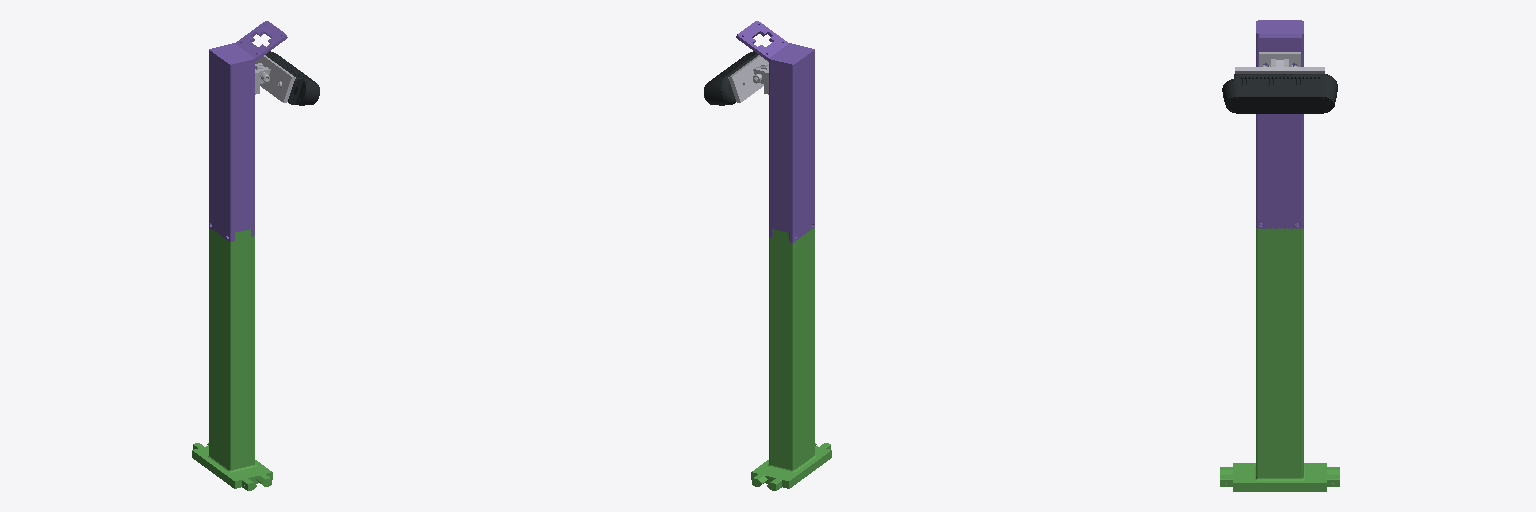
URDF robot description (so101_uvc_d435i_mount):
<?xml version='1.0' encoding='utf-8'?>
<robot name="so101_uvc_d435i_mount">
  <material name="uvc_bottom">
    <color rgba="0.40 0.68 0.36 1" />
  </material>
  <material name="uvc_top">
    <color rgba="0.52 0.43 0.72 1" />
  </material>
  <material name="mount">
    <color rgba="0.72 0.72 0.76 1" />
  </material>
  <material name="camera">
    <color rgba="0.20 0.22 0.23 1" />
  </material>
  <material name="hardware">
    <color rgba="0.72 0.73 0.75 1" />
  </material>
  <link name="uvc_mount_base_link">
    <visual name="uvc_mount_bottom">
      <origin xyz="0 0 0" rpy="1.57079632679 -0 0" />
      <geometry>
        <mesh filename="meshes/uvc_mount_bottom.stl" />
      </geometry>
      <material name="uvc_bottom" />
    </visual>
    <collision name="uvc_mount_bottom">
      <origin xyz="0 0 0" rpy="1.57079632679 -0 0" />
      <geometry>
        <mesh filename="meshes/uvc_mount_bottom.stl" />
      </geometry>
    </collision>
    <visual name="uvc_mount_top">
      <origin xyz="0.0187 -0.0365 0.0322" rpy="1.57079632679 -0 0" />
      <geometry>
        <mesh filename="meshes/uvc_mount_top.stl" />
      </geometry>
      <material name="uvc_top" />
    </visual>
    <collision name="uvc_mount_top">
      <origin xyz="0.0187 -0.0365 0.0322" rpy="1.57079632679 -0 0" />
      <geometry>
        <mesh filename="meshes/uvc_mount_top.stl" />
      </geometry>
    </collision>
    <visual name="d435i_mount_fork">
      <origin xyz="0.0574 -0.0365 0.365" rpy="-1.57079632679 -0 1.57079632679" />
      <geometry>
        <mesh filename="meshes/d435i_mount_fork.stl" />
      </geometry>
      <material name="mount" />
    </visual>
    <collision name="d435i_mount_fork">
      <origin xyz="0.0574 -0.0365 0.365" rpy="-1.57079632679 -0 1.57079632679" />
      <geometry>
        <mesh filename="meshes/d435i_mount_fork.stl" />
      </geometry>
    </collision>
    <visual name="m4_pivot_bolt">
      <origin xyz="0.0459 -0.0448 0.365" rpy="-1.57079632679 -0 1.57079632679" />
      <geometry>
        <mesh filename="meshes/m4_pivot_bolt.stl" />
      </geometry>
      <material name="hardware" />
    </visual>
    <visual name="m4_washer_head">
      <origin xyz="0.0459 -0.0448 0.365" rpy="-1.57079632679 -0 1.57079632679" />
      <geometry>
        <mesh filename="meshes/m4_washer_head.stl" />
      </geometry>
      <material name="hardware" />
    </visual>
    <visual name="m4_washer_nut">
      <origin xyz="0.0459 -0.029 0.365" rpy="-1.57079632679 -0 1.57079632679" />
      <geometry>
        <mesh filename="meshes/m4_washer_nut.stl" />
      </geometry>
      <material name="hardware" />
    </visual>
    <visual name="m4_locknut">
      <origin xyz="0.0459 -0.0261 0.365" rpy="-1.57079632679 -0 1.57079632679" />
      <geometry>
        <mesh filename="meshes/m4_locknut.stl" />
      </geometry>
      <material name="hardware" />
    </visual>
  </link>
  <link name="d435i_tilt_link">
    <visual name="d435i_tilt_plate">
      <origin xyz="0.0115 0 2.01227923213e-16" rpy="-1.57079632679 -0 1.57079632679" />
      <geometry>
        <mesh filename="meshes/d435i_tilt_plate.stl" />
      </geometry>
      <material name="mount" />
    </visual>
    <collision name="d435i_tilt_plate">
      <origin xyz="0.0115 0 2.01227923213e-16" rpy="-1.57079632679 -0 1.57079632679" />
      <geometry>
        <mesh filename="meshes/d435i_tilt_plate.stl" />
      </geometry>
    </collision>
    <visual name="m3_left">
      <origin xyz="0.0075 -0.0225 3.0184188482e-16" rpy="-1.57079632679 -0 0" />
      <geometry>
        <mesh filename="meshes/m3_left.stl" />
      </geometry>
      <material name="hardware" />
    </visual>
    <visual name="m3_right">
      <origin xyz="0.0075 0.0225 3.0184188482e-16" rpy="-1.57079632679 -0 0" />
      <geometry>
        <mesh filename="meshes/m3_right.stl" />
      </geometry>
      <material name="hardware" />
    </visual>
  </link>
  <link name="d435i_camera_link">
    <visual name="d435i_camera">
      <origin xyz="0 0 0" rpy="0 0 0" />
      <geometry>
        <mesh filename="meshes/d435i_camera.stl" />
      </geometry>
      <material name="camera" />
    </visual>
    <collision name="d435i_camera">
      <origin xyz="0 0 0" rpy="0 0 0" />
      <geometry>
        <mesh filename="meshes/d435i_camera.stl" />
      </geometry>
    </collision>
  </link>
  <joint name="d435i_tilt" type="continuous">
    <origin xyz="0.0459 -0.0365 0.365" rpy="0 0.378895682706 0" />
    <parent link="uvc_mount_base_link" />
    <child link="d435i_tilt_link" />
    <axis xyz="0 1 0" />
  </joint>
  <joint name="d435i_camera_mount" type="fixed">
    <origin xyz="0.03655 0 3.67761376907e-16" rpy="1.57079632679 -0 1.57079632679" />
    <parent link="d435i_tilt_link" />
    <child link="d435i_camera_link" />
  </joint>
</robot>

--- Render facts (derived) ---
3 views of the same robot in one strip: view 1: azimuth 30°, elevation 25°; view 2: azimuth 150°, elevation 25°; view 3: azimuth 270°, elevation 25° (orthographic).
Robot: so101_uvc_d435i_mount — 3 links, 2 joints (1 continuous, 1 fixed); root link uvc_mount_base_link; default pose: every joint at zero.
Visible links, largest first — view 1: uvc_mount_base_link, d435i_camera_link, d435i_tilt_link; view 2: uvc_mount_base_link, d435i_camera_link, d435i_tilt_link; view 3: uvc_mount_base_link, d435i_camera_link, d435i_tilt_link.
Link boxes in pixels (x1,y1,x2,y2): uvc_mount_base_link: (192,21,287,490); d435i_camera_link: (265,51,319,105); d435i_tilt_link: (255,55,295,102); uvc_mount_base_link: (736,21,831,490); d435i_camera_link: (704,51,758,105); d435i_tilt_link: (728,55,768,102); uvc_mount_base_link: (1220,20,1339,491); d435i_camera_link: (1222,74,1337,113); d435i_tilt_link: (1235,60,1324,73).
Size in the robot's own frame: 0.0834 by 0.093 by 0.4045 metres.
9 mesh visuals loaded from 11 distinct referenced files (9 binary STL); not drawn: 2 (reference not matched to a file when rendering).
